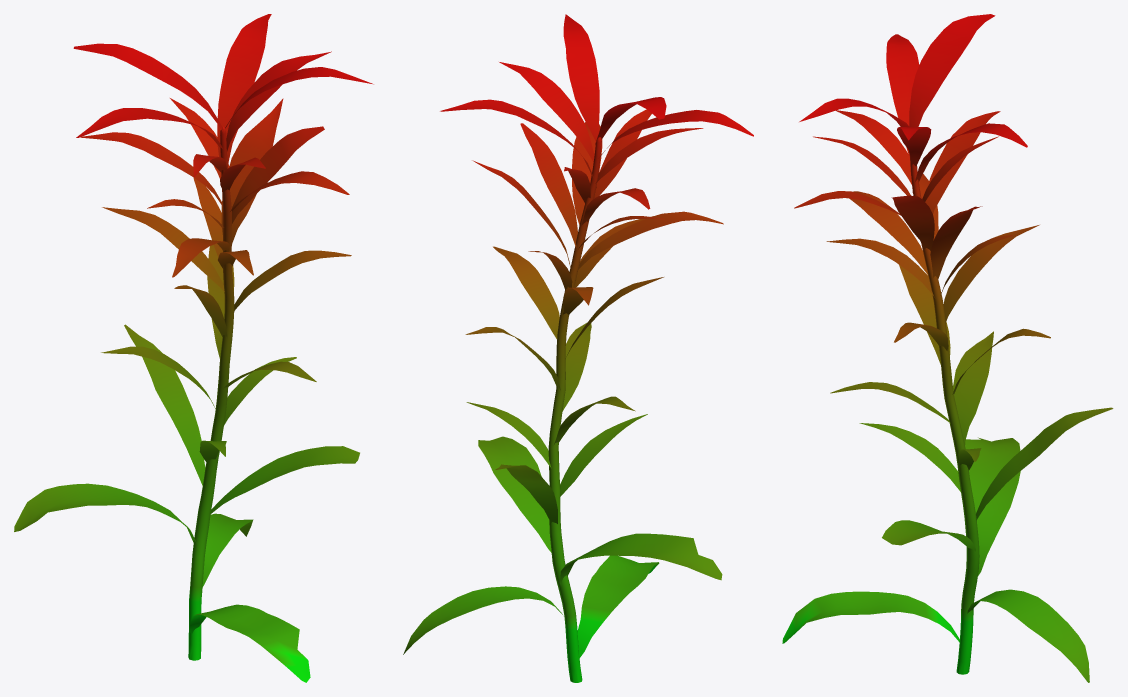
File: Goldenrods_LOD2_Var8.fbx
3 views of the same model, side by side, from view 1: azimuth 30°, elevation 25°; view 2: azimuth 150°, elevation 25°; view 3: azimuth 270°, elevation 25° (orthographic). The views are drawn at different scales.
Parts seen in each view (by area): view 1: _rl42_Var8_LOD2; view 2: _rl42_Var8_LOD2; view 3: _rl42_Var8_LOD2.
Part boxes in pixels (<box>): _rl42_Var8_LOD2: <box>14,14,373,682</box>; _rl42_Var8_LOD2: <box>403,14,753,682</box>; _rl42_Var8_LOD2: <box>782,14,1113,682</box>.
Size of the model in its own units: 32.22 by 64.29 by 31.65.
